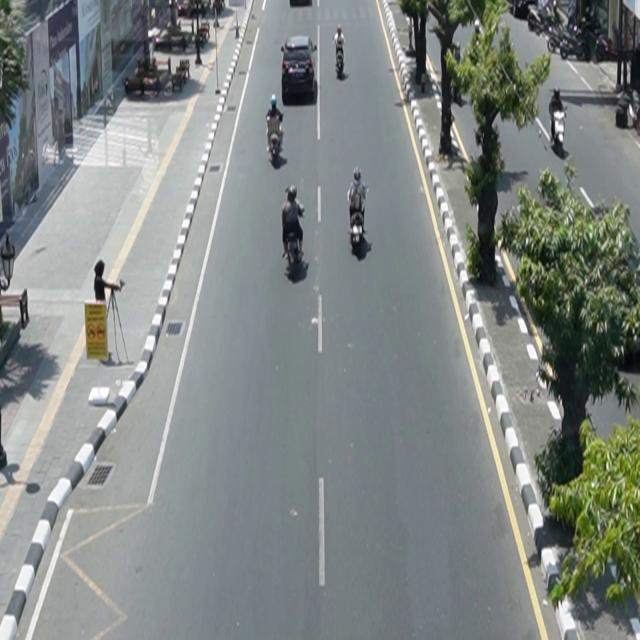car: (281, 36, 318, 106)
